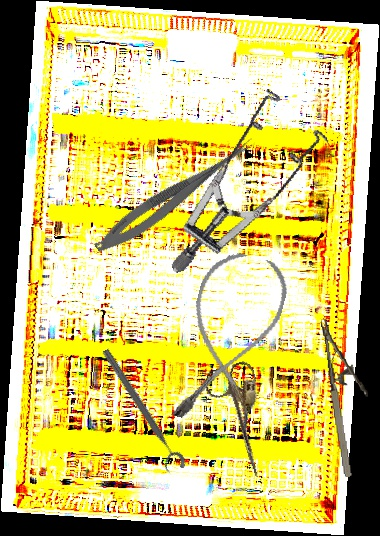Cannula: (166, 245, 294, 436)
Fixation Ring: (92, 346, 189, 477)
Iris Scissors: (201, 359, 284, 484)
Micro Scissor: (90, 127, 260, 262)
Needle Holder: (320, 313, 378, 478)
Speculum: (127, 76, 353, 274)
